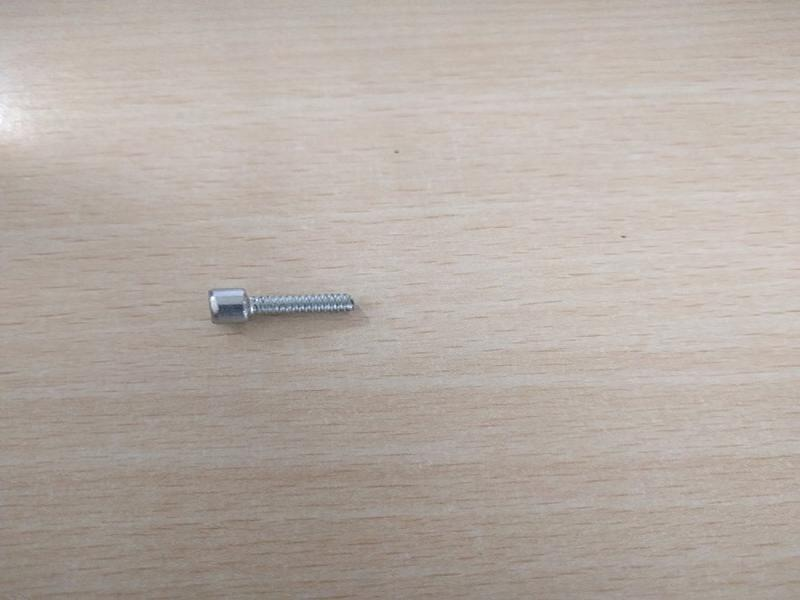smallscrew: (189, 282, 374, 335)
